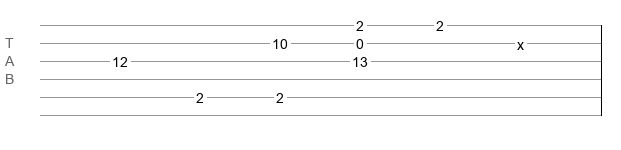0: (356, 36, 364, 46)
10: (272, 36, 288, 46)
12: (112, 54, 128, 64)
13: (352, 54, 368, 64)
2: (196, 90, 204, 100), (276, 90, 284, 100), (356, 18, 364, 28), (436, 18, 444, 28)
x: (517, 37, 524, 45)
